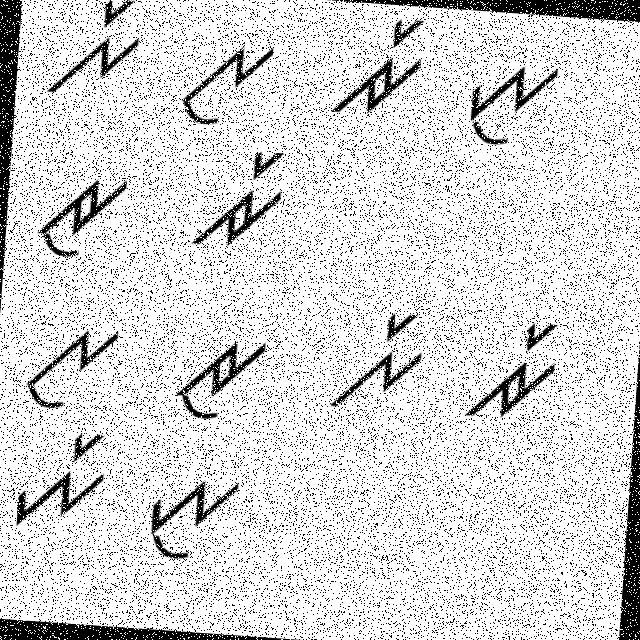lar: (318, 296, 437, 419), (39, 0, 150, 104)
law: (170, 23, 280, 138), (14, 314, 130, 415)
rar: (449, 308, 574, 430), (188, 140, 297, 264), (320, 6, 429, 129)
raw: (22, 157, 132, 266), (172, 325, 271, 429)
yar: (8, 424, 110, 542)
yaw: (450, 50, 576, 158), (136, 456, 247, 574)
